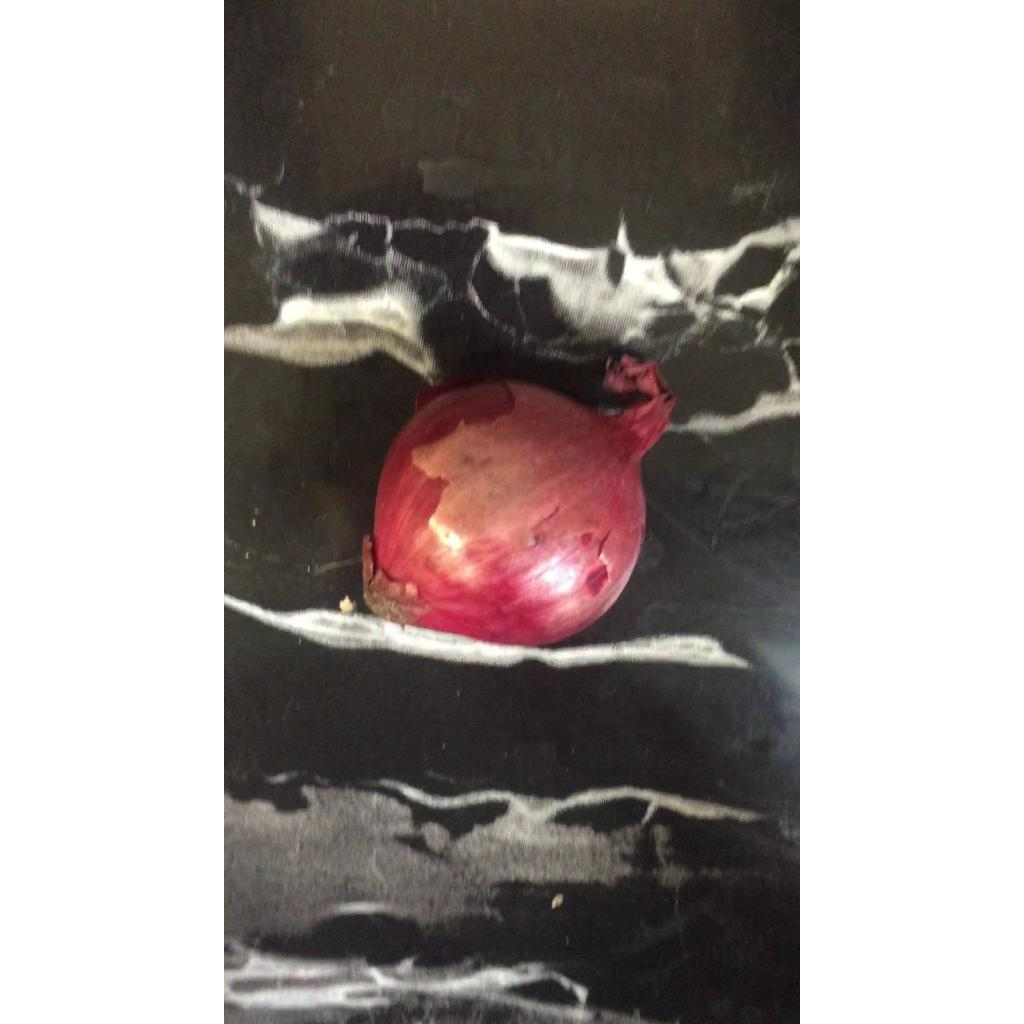Onion: (363, 355, 674, 646)
